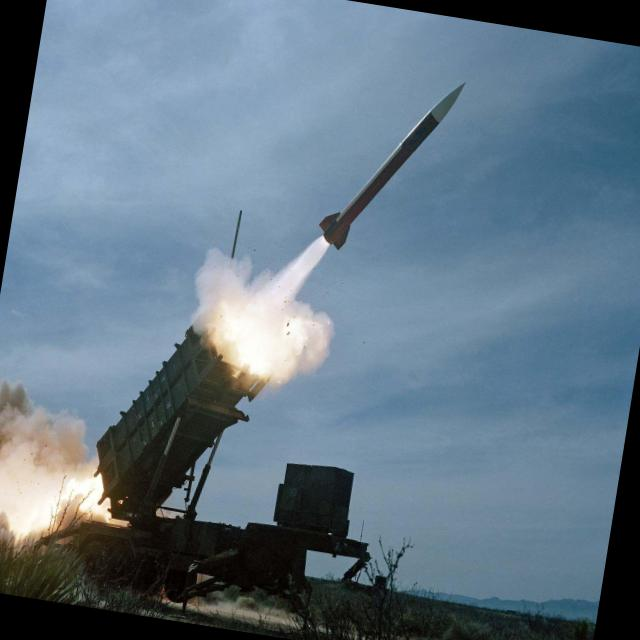rocket: (231, 44, 471, 376)
